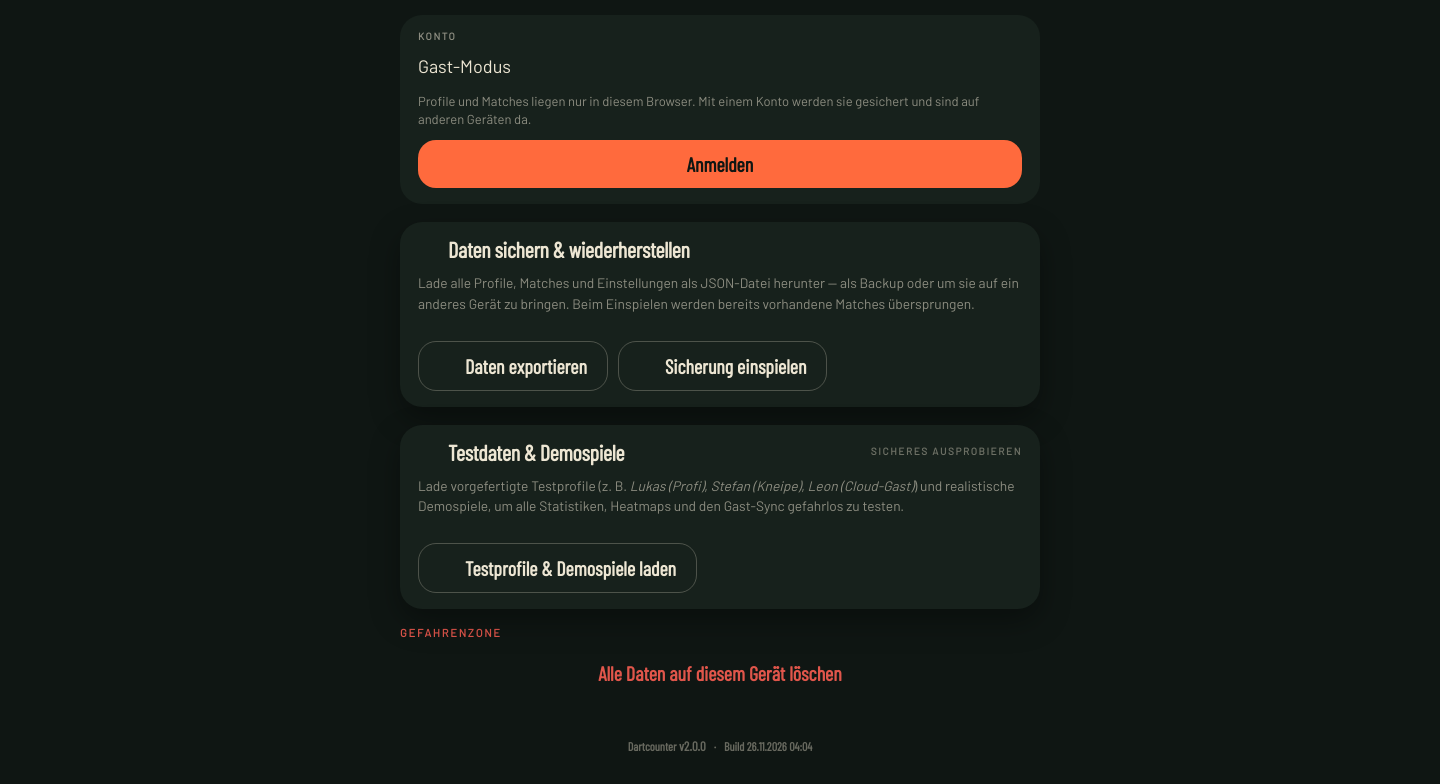
Test case: Daten & Konto › asks before wiping the device
The width and height of the screenshot is (1440, 784).
(page scrolled)
Click the button "Alle Daten auf diesem Gerät löschen" at [720, 673], box [400, 648, 1040, 698]
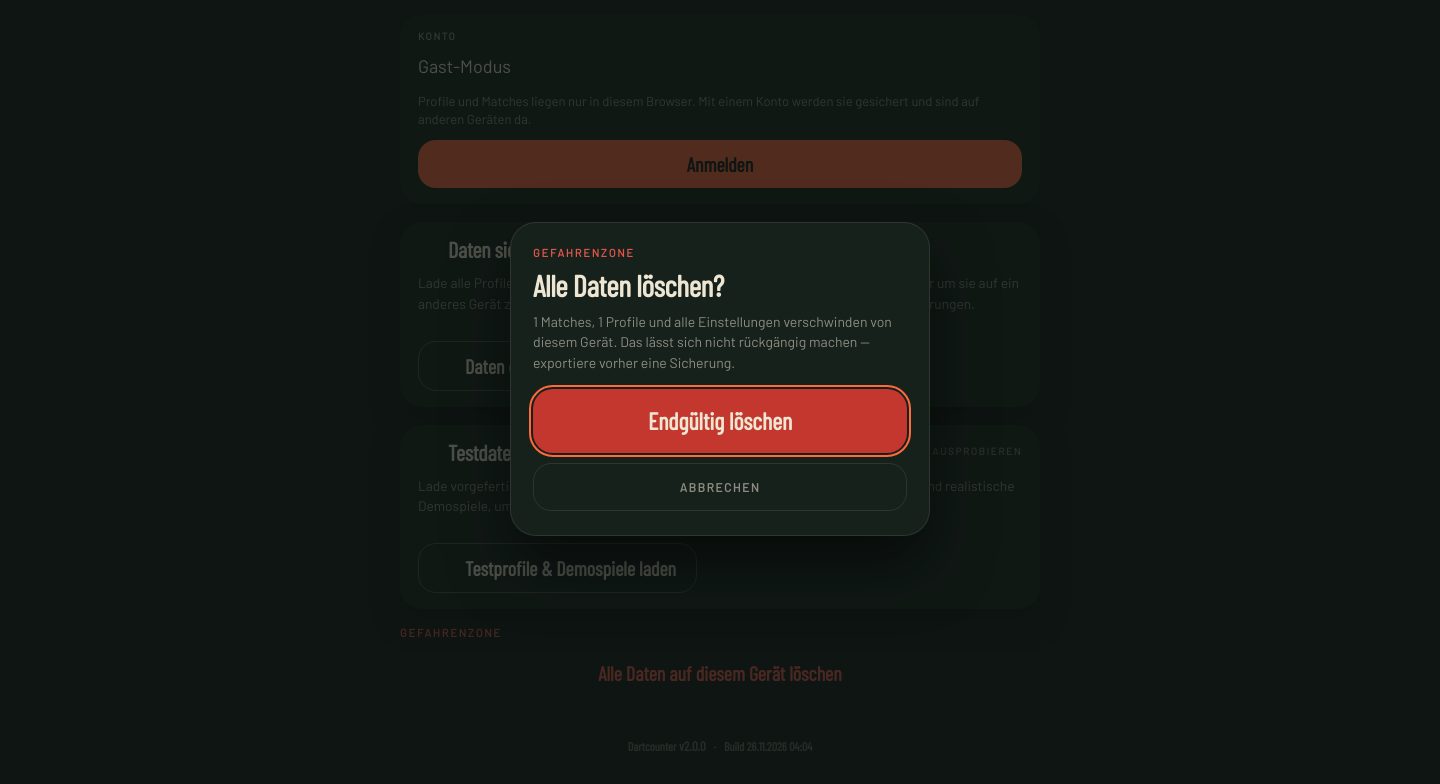
Now the dialog "Alle Daten löschen?" shows "1 Matches, 1 Profile", box [533, 313, 892, 371]
Click the button "Abbrechen" at [720, 487], box [533, 463, 907, 511]
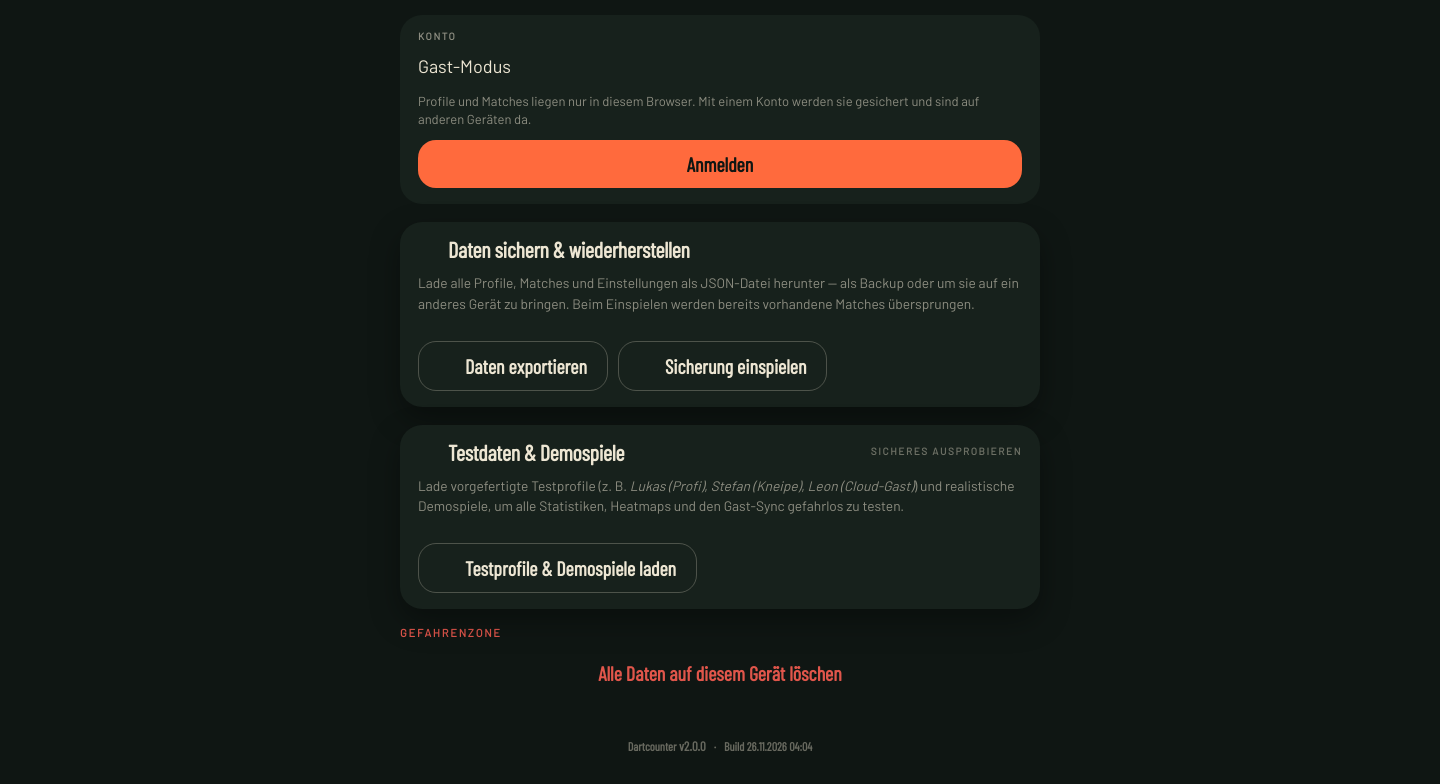
Now the dialog is gone
